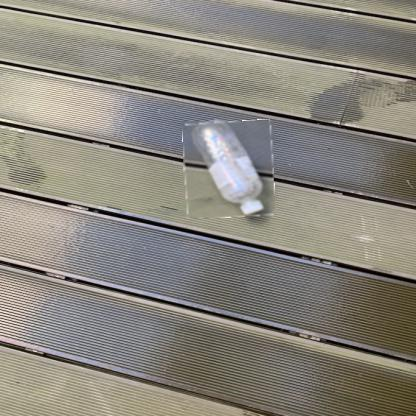plastic-bottles: (184, 122, 276, 219)
